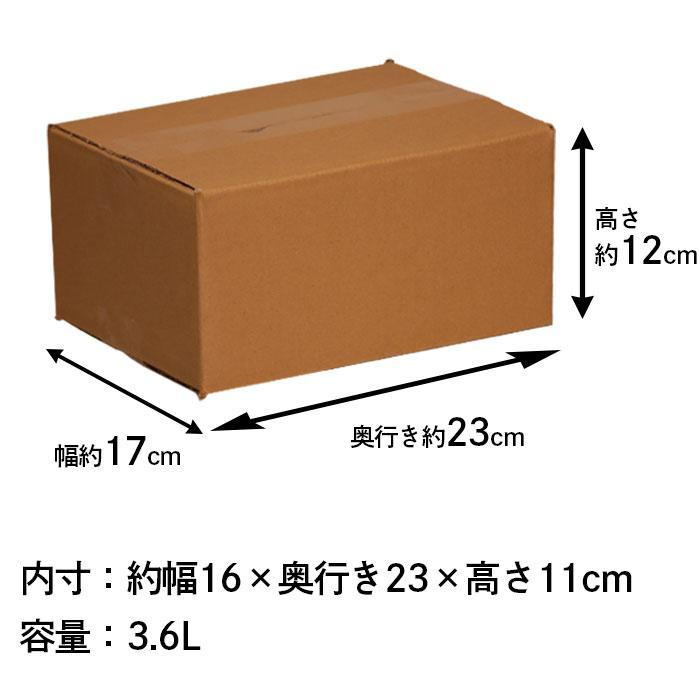box: (36, 57, 578, 400)
